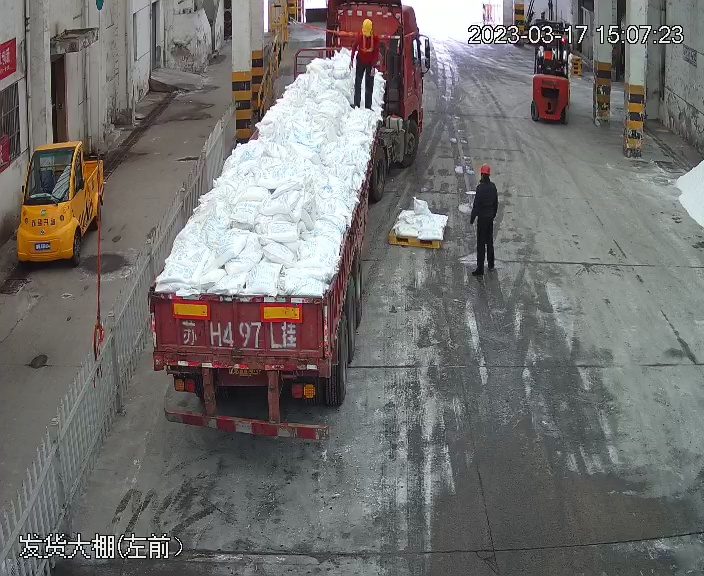belt: (356, 30, 379, 55)
head: (474, 163, 498, 196), (353, 18, 380, 44)
helmet: (360, 18, 374, 35), (478, 163, 492, 175)
people: (466, 162, 500, 277), (347, 17, 385, 111)
truck: (140, 1, 415, 435)
